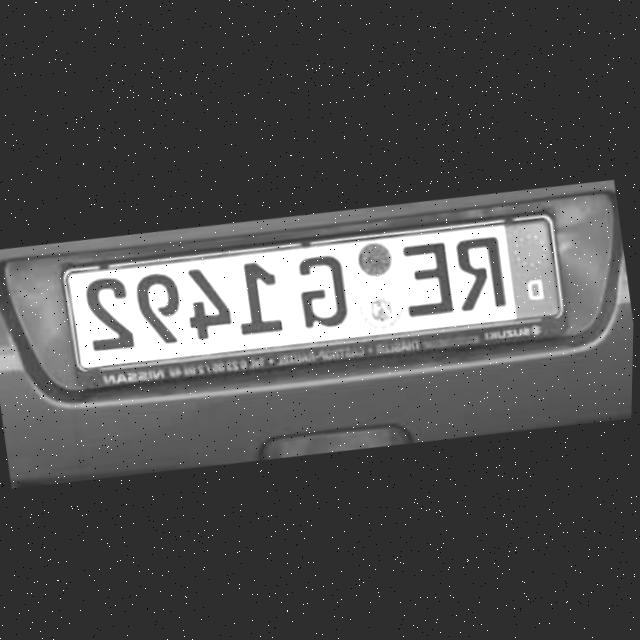license-plates: (62, 218, 564, 389)
